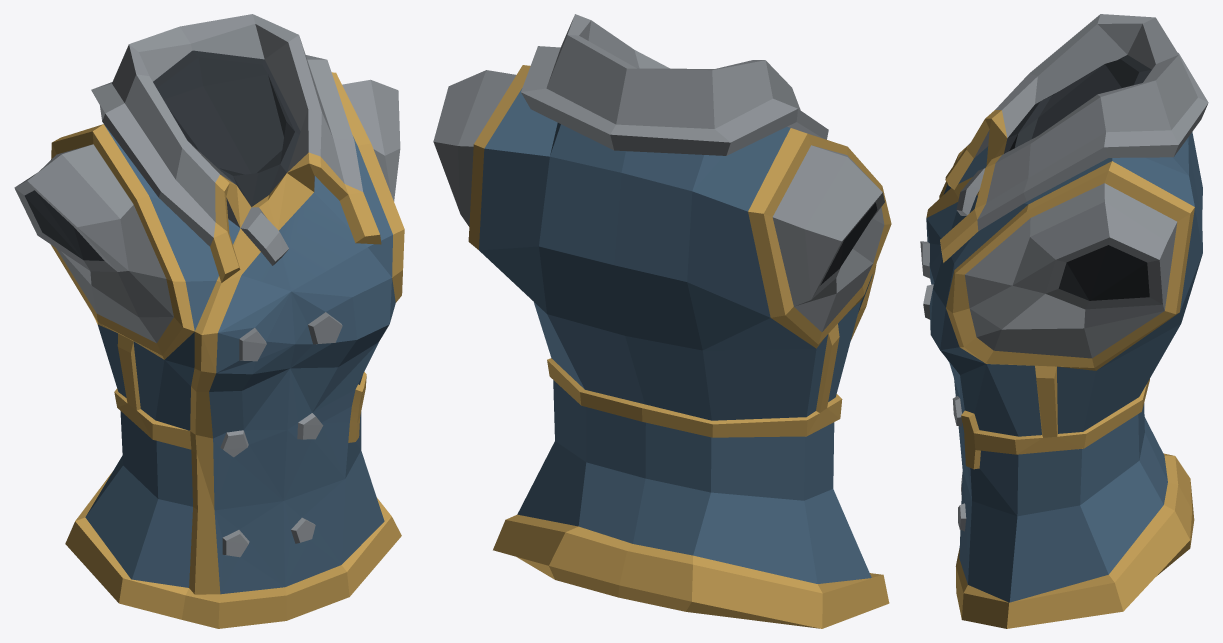
File: Chr_Torso_Female_04_Static.fbx
3 renders of one model, left to right at view 1: azimuth 30°, elevation 25°; view 2: azimuth 150°, elevation 25°; view 3: azimuth 270°, elevation 25°, orthographic. The views are drawn at different scales.
Parts seen in each view (by area): view 1: Chr_Torso_Female_04_Static; view 2: Chr_Torso_Female_04_Static; view 3: Chr_Torso_Female_04_Static.
Part boxes in pixels (<box>): Chr_Torso_Female_04_Static: <box>14,14,404,628</box>; Chr_Torso_Female_04_Static: <box>433,14,891,628</box>; Chr_Torso_Female_04_Static: <box>920,14,1208,628</box>.
Bounding box in the file's own units: 0.5172 × 0.6981 × 0.3338.
